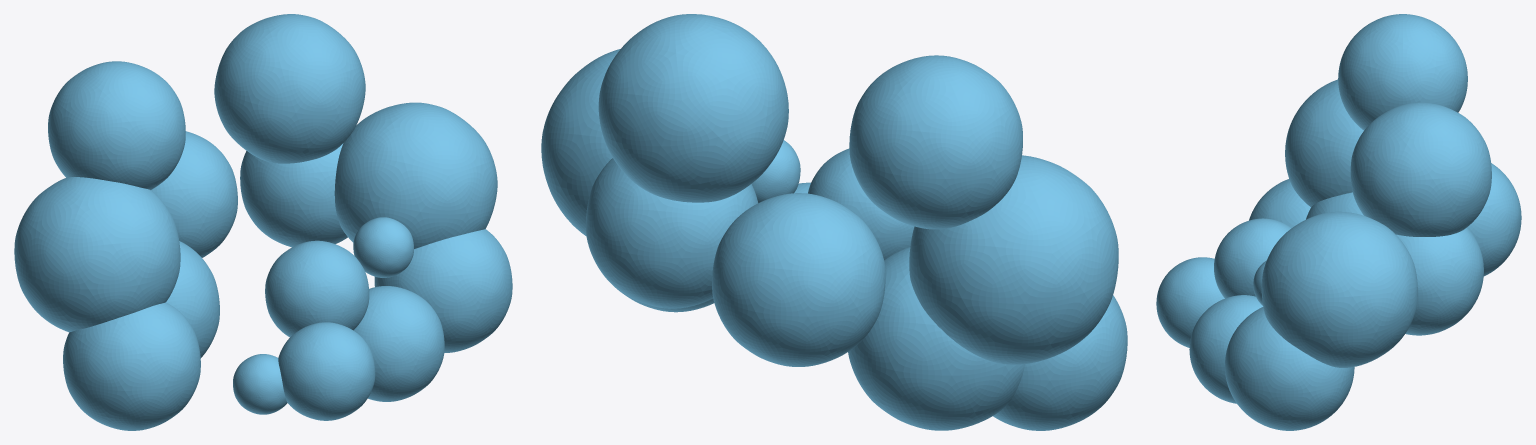
Rendered from water002.fbx.
3 renders of one model, left to right at view 1: azimuth 30°, elevation 25°; view 2: azimuth 150°, elevation 25°; view 3: azimuth 270°, elevation 25°, orthographic. The views are drawn at different scales.
Parts seen in each view (by area): view 1: water002; view 2: water002; view 3: water002.
Part boxes in pixels (x1=…): water002: x1=14, y1=14, x2=512, y2=430; water002: x1=541, y1=14, x2=1127, y2=430; water002: x1=1156, y1=14, x2=1521, y2=430.
Bounding box in the file's own units: 1987 × 1328 × 1490.
